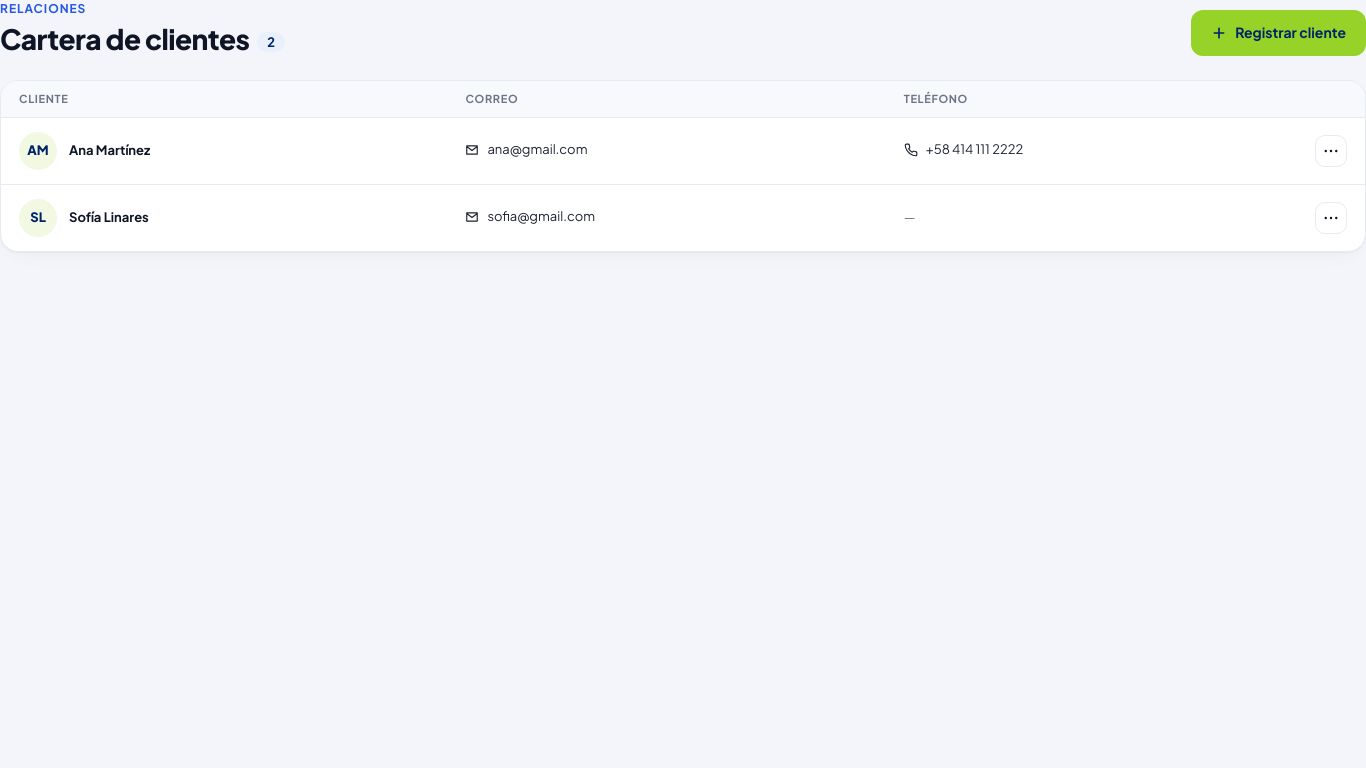
editar no deja cambiar el correo y guarda nombre y teléfono
Click the button named "Opciones de Ana Martínez".
click(1331, 151)  # box [1315,135,1347,167]
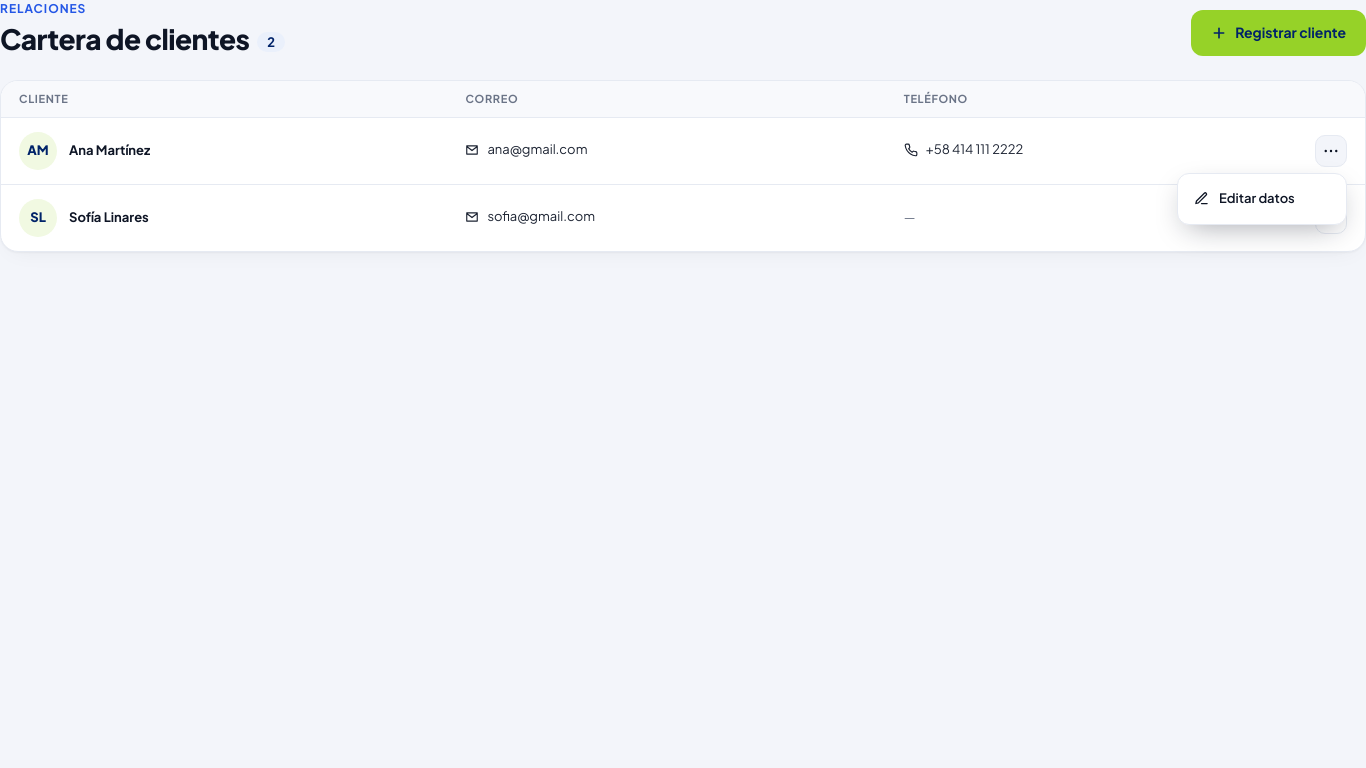
Click the menu item "Editar datos".
click(1262, 199)  # box [1184,180,1340,218]
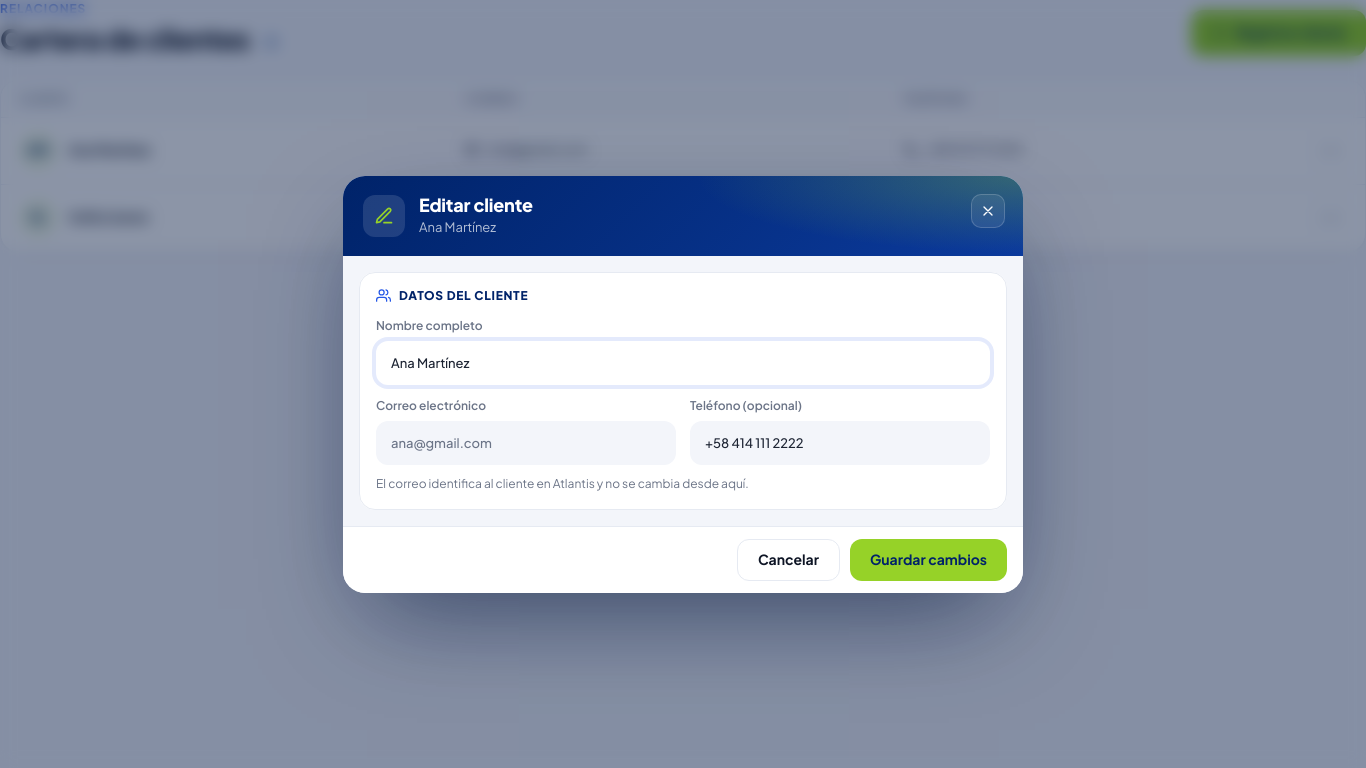
Check: the field labelled "Correo electrónico" is disabled, box [376,420,676,464]
Replace the text in the field labelled "Teléfono (opcional)" with "+58 412 000 1111" at [840, 442], box [690,420,990,464]
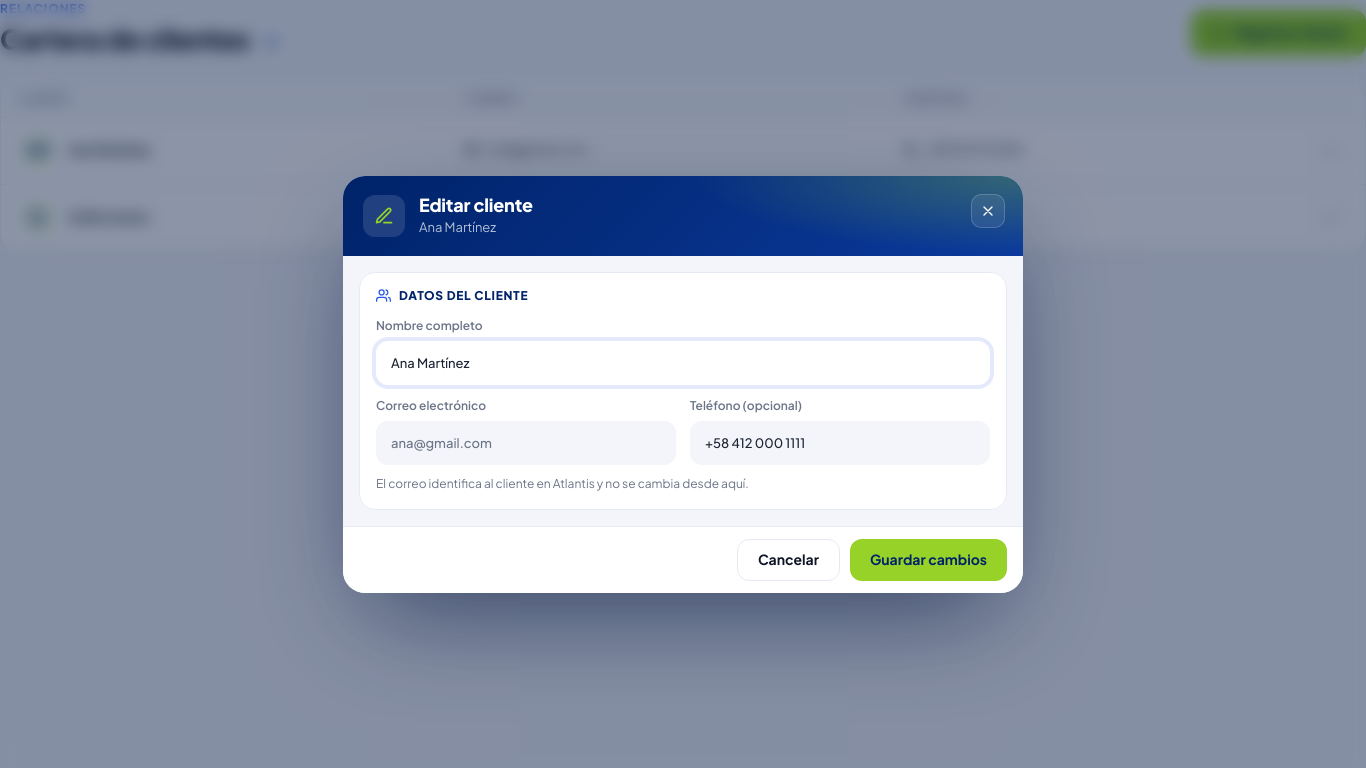
Click the button "Guardar cambios".
click(928, 560)  # box [850,538,1007,580]
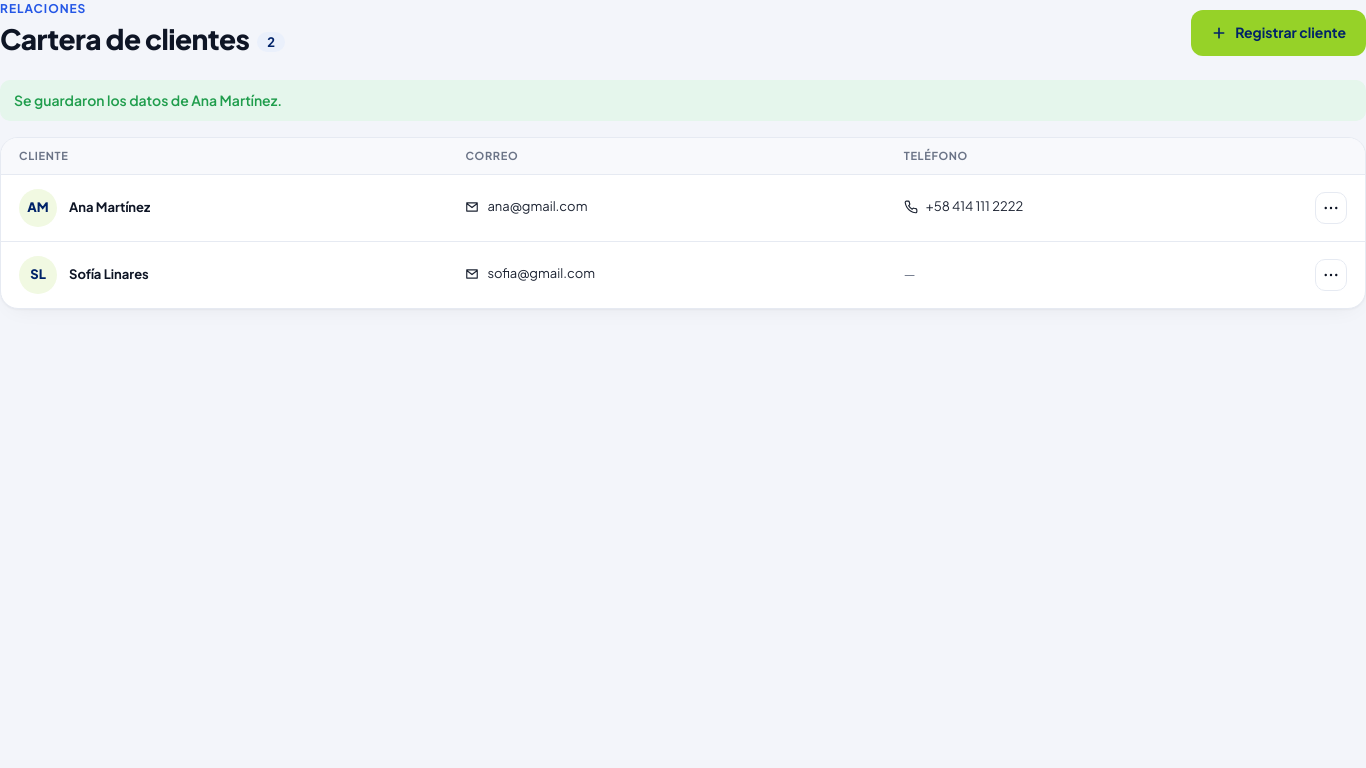
Check: the message shows "Se guardaron los datos de Ana Martínez", box [14,91,282,109]
